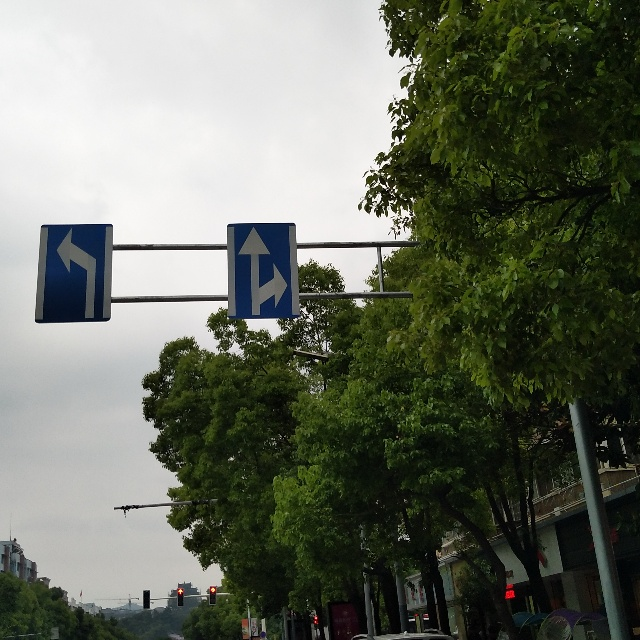left: (43, 219, 108, 320)
